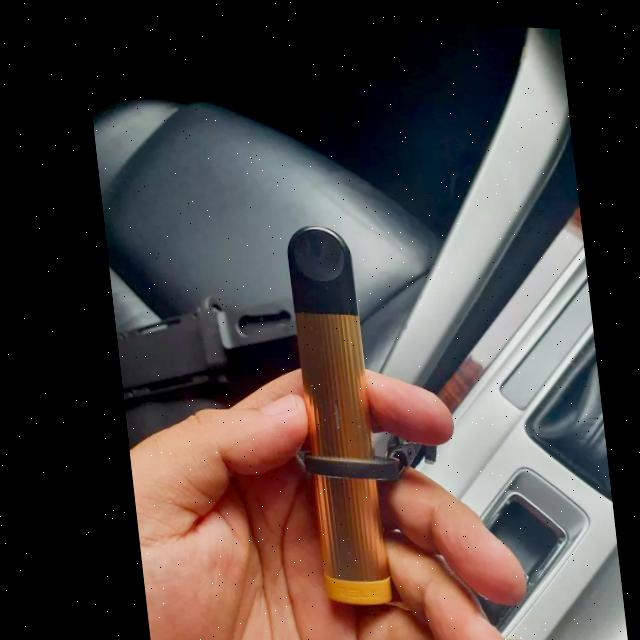vape: (277, 219, 380, 617)
